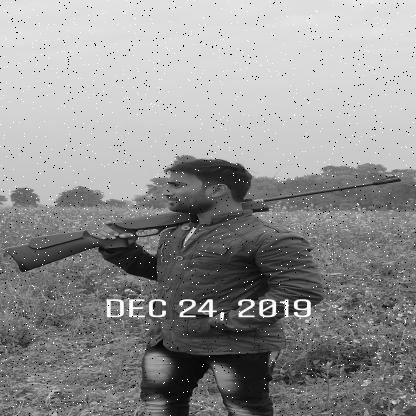rifle: (3, 175, 403, 273)
